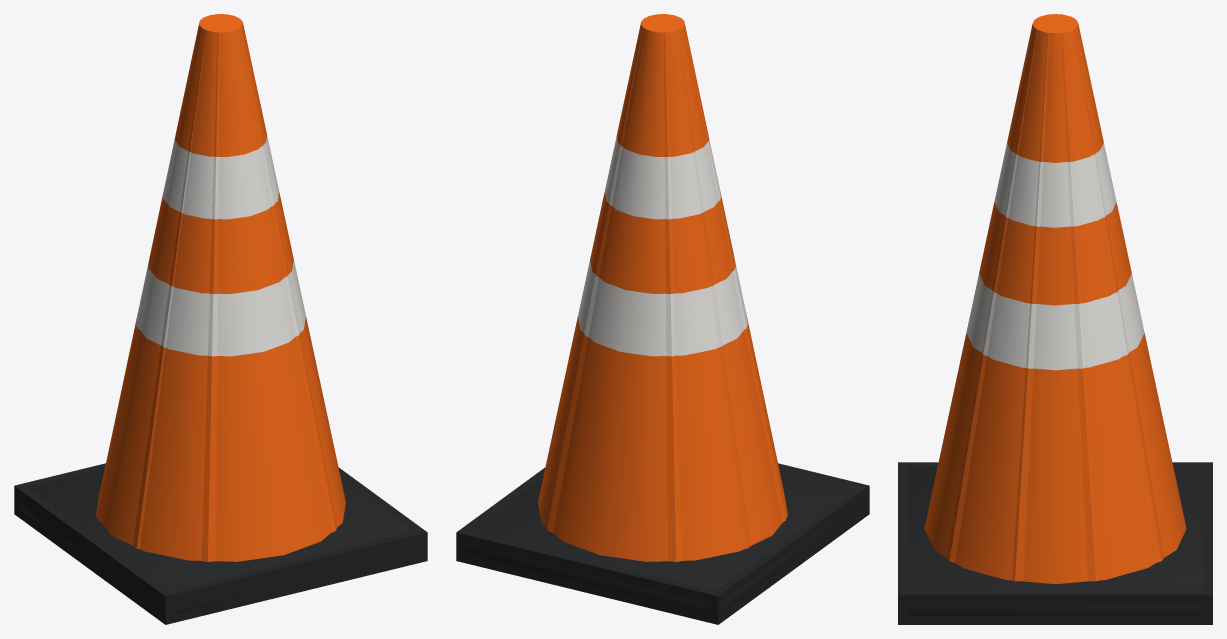
Rendered from PRP_DEFECT_CONE_A_v001.glb.
The picture shows the model from 3 angles, left to right: view 1: azimuth 30°, elevation 25°; view 2: azimuth 150°, elevation 25°; view 3: azimuth 270°, elevation 25°; orthographic projection. The views are drawn at different scales.
Parts seen in each view (by area): view 1: PRP_DEFECT_CONE_A_CONE, PRP_DEFECT_CONE_A_CONE_LOW; view 2: PRP_DEFECT_CONE_A_CONE, PRP_DEFECT_CONE_A_CONE_LOW; view 3: PRP_DEFECT_CONE_A_CONE, PRP_DEFECT_CONE_A_CONE_LOW.
Part boxes in pixels (x1,y1,x2,y2): PRP_DEFECT_CONE_A_CONE: [19, 14, 418, 614]; PRP_DEFECT_CONE_A_CONE_LOW: [14, 14, 427, 624]; PRP_DEFECT_CONE_A_CONE: [464, 14, 864, 614]; PRP_DEFECT_CONE_A_CONE_LOW: [456, 14, 869, 624]; PRP_DEFECT_CONE_A_CONE: [908, 14, 1202, 615]; PRP_DEFECT_CONE_A_CONE_LOW: [898, 14, 1212, 624].
Size of the model in its own units: 0.64 by 1.2 by 0.64.
